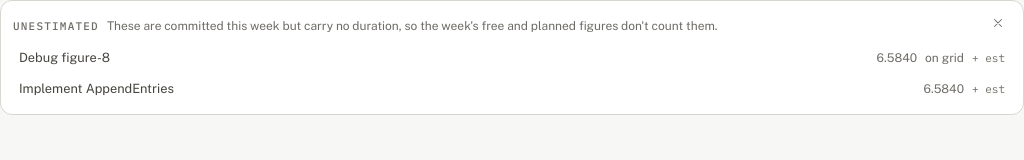
pricing the week’s unestimated work › drops a row once it has been priced
Click the button named "Set estimate for \"Debug figure-8\"" at x=988, y=58, box [972,46,1005,70]
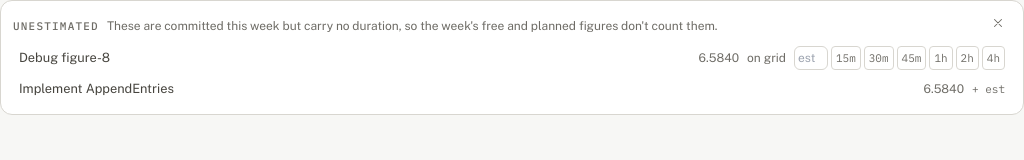
Click the button named "Set estimate for \"Debug figure-8\" to 30m" at x=879, y=58, box [864,46,894,70]
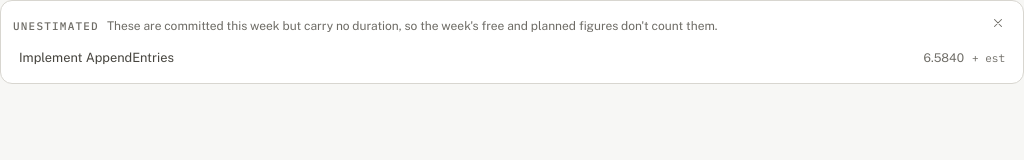
Expected: the button "Implement AppendEntries" is shown, [19,48,916,68]
Now the button "Debug figure-8" is gone
